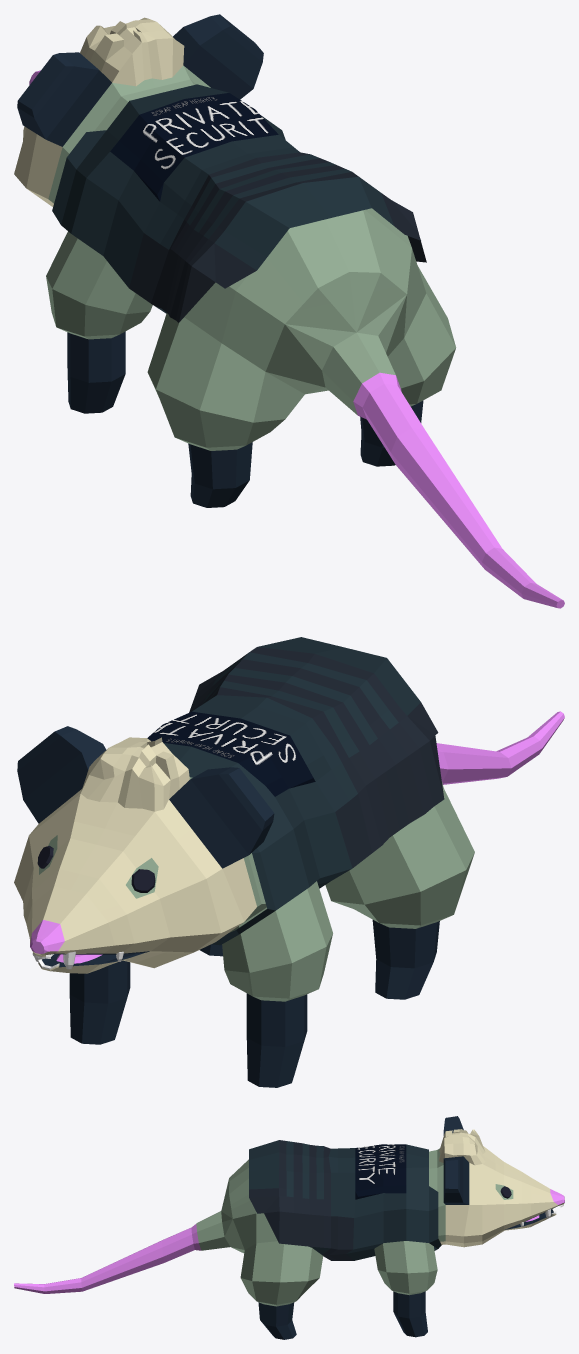
The model's file is NPC_SecurityPossum01.fbx.
3 views of the same model, one above another, from view 1: azimuth 30°, elevation 25°; view 2: azimuth 150°, elevation 25°; view 3: azimuth 270°, elevation 25° (orthographic). The views are drawn at different scales.
Visible parts, largest first — view 1: Cylinder.240, Cylinder.242; view 2: Cylinder.240, Cylinder.242, Cylinder.241; view 3: Cylinder.240, Cylinder.242, Cylinder.241.
Part boxes in pixels (box(x1,y1,x2,y2)): Cylinder.240: box(14, 14, 564, 608); Cylinder.242: box(52, 84, 426, 322); Cylinder.240: box(14, 711, 564, 1087); Cylinder.242: box(147, 637, 444, 945); Cylinder.241: box(38, 953, 143, 973); Cylinder.240: box(14, 1116, 564, 1339); Cylinder.242: box(249, 1140, 441, 1260); Cylinder.241: box(504, 1208, 556, 1230).
Size of the model in its own units: 43.7 by 48.09 by 133.
